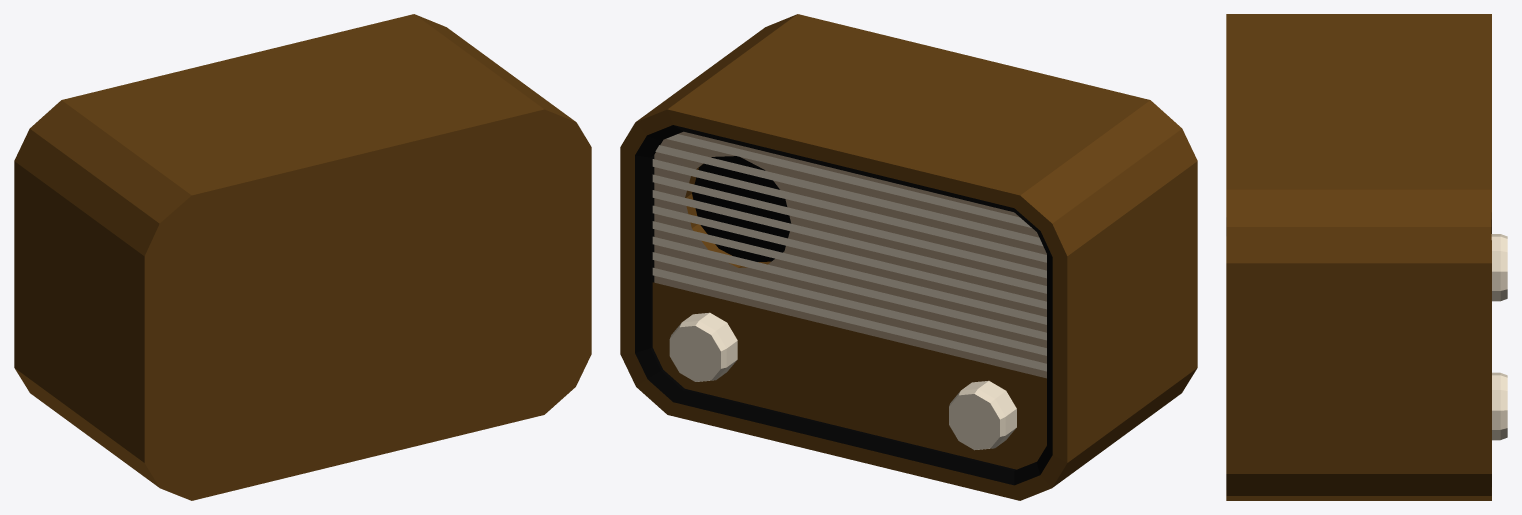
File: radio(1).fbx
The picture shows the model from 3 angles, left to right: view 1: azimuth 30°, elevation 25°; view 2: azimuth 150°, elevation 25°; view 3: azimuth 270°, elevation 25°; orthographic projection.
Visible parts, largest first — view 1: Cube; view 2: Cube, Plane.002, Plane.001, Cylinder.001; view 3: Cube, Cylinder.001.
Part boxes in pixels (box(x1,y1,x2,y2)): Cube: box(14, 14, 591, 500); Cube: box(620, 14, 1197, 500); Plane.002: box(652, 134, 1046, 371); Plane.001: box(652, 282, 1046, 469); Cylinder.001: box(669, 312, 1016, 450); Cube: box(1226, 14, 1491, 500); Cylinder.001: box(1491, 234, 1507, 440).
Bounding box in the file's own units: 184 × 120 × 98.42.
